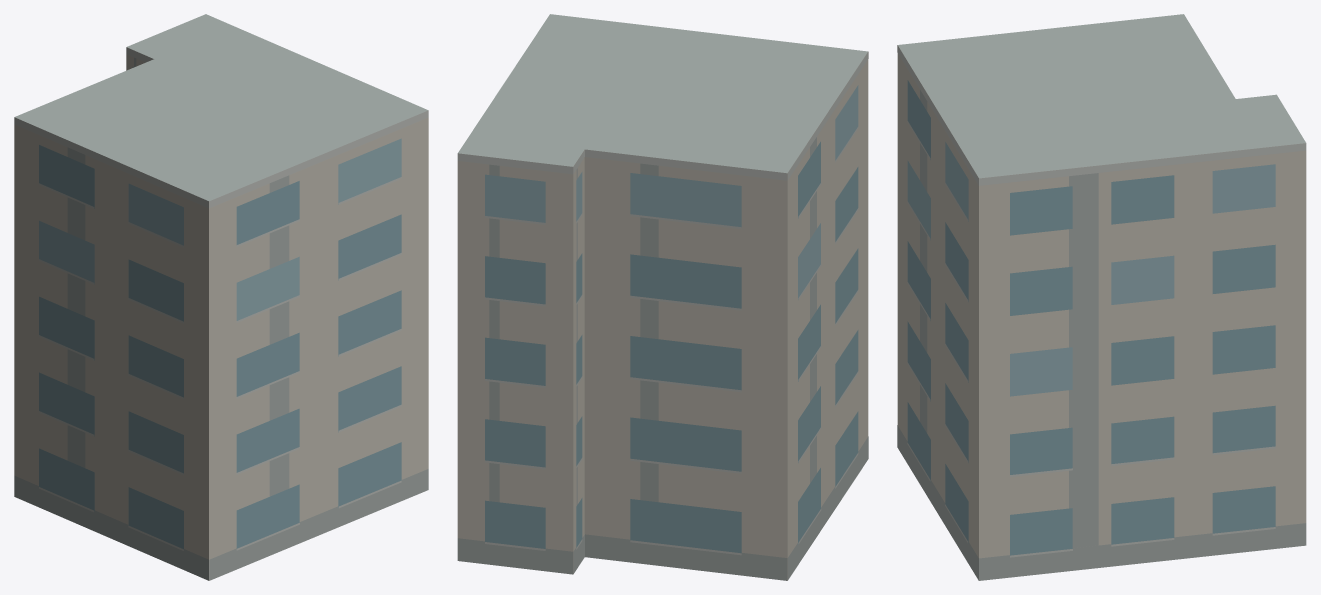
Rendered from survey-upis-32717041.glb.
The picture shows the model from 3 angles, left to right: view 1: azimuth 30°, elevation 25°; view 2: azimuth 150°, elevation 25°; view 3: azimuth 270°, elevation 25°; orthographic projection. The views are drawn at different scales.
Parts seen in each view (by area): view 1: survey-upis-32717041.tmp; view 2: survey-upis-32717041.tmp; view 3: survey-upis-32717041.tmp.
Boxes of the visible parts, x1=… form: survey-upis-32717041.tmp: x1=14, y1=14, x2=428, y2=580; survey-upis-32717041.tmp: x1=457, y1=14, x2=868, y2=580; survey-upis-32717041.tmp: x1=897, y1=14, x2=1306, y2=580.
Size of the model in its own units: 11.49 by 13.1 by 12.07.
